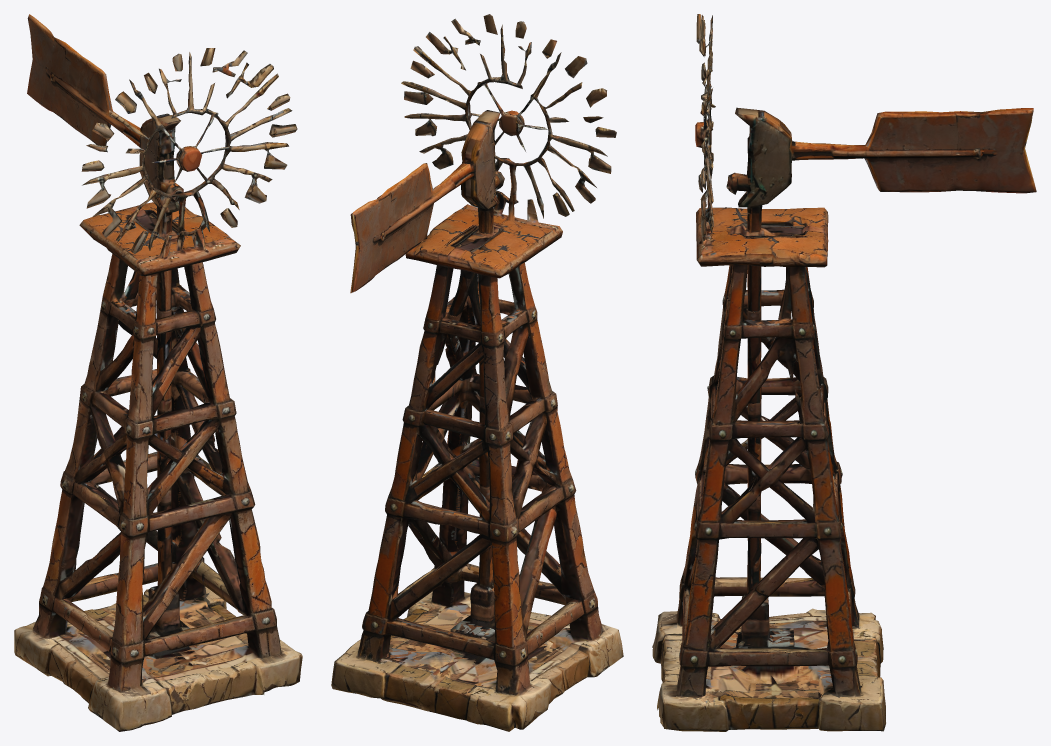
File: Settle_Windmill_Big.fbx
3 renders of one model, left to right at view 1: azimuth 30°, elevation 25°; view 2: azimuth 150°, elevation 25°; view 3: azimuth 270°, elevation 25°, orthographic. The views are drawn at different scales.
Visible parts, largest first — view 1: texture_mapping; view 2: texture_mapping; view 3: texture_mapping.
Boxes of the visible parts, <box> form: texture_mapping: <box>14,14,302,731</box>; texture_mapping: <box>331,14,623,731</box>; texture_mapping: <box>652,14,1036,731</box>.
Bounding box in the file's own units: 0.3495 × 0.5263 × 1.
1 material, 1 textured.
